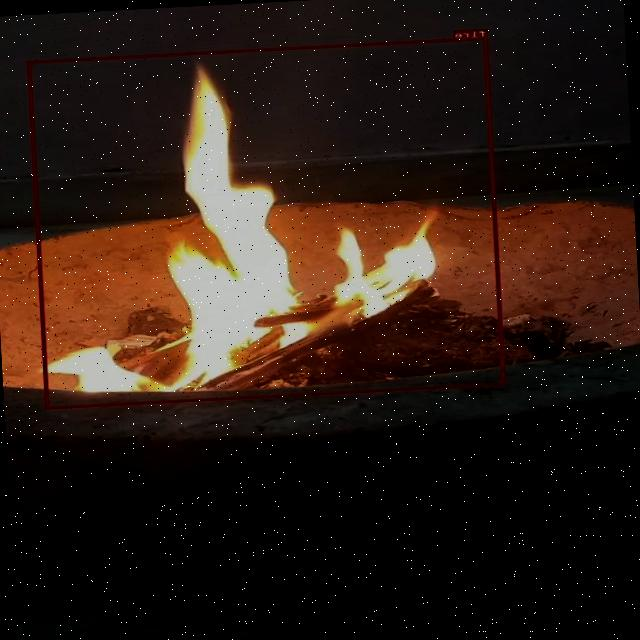fire: (28, 36, 507, 409)
